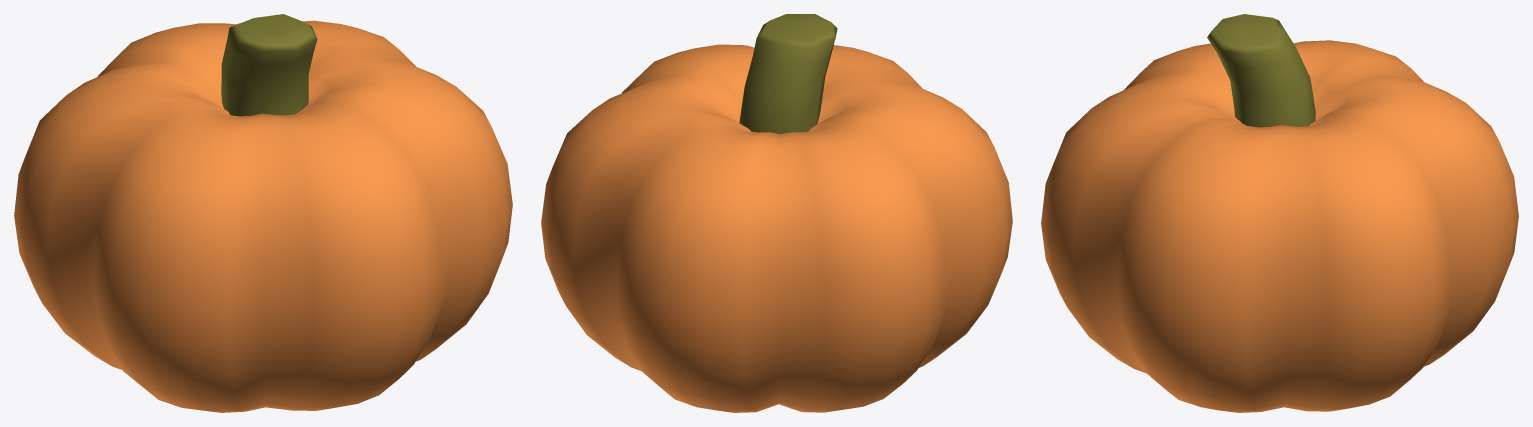
The model's file is Pumpkin_1.glb.
3 renders of one model, left to right at view 1: azimuth 30°, elevation 25°; view 2: azimuth 150°, elevation 25°; view 3: azimuth 270°, elevation 25°, orthographic. The views are drawn at different scales.
Parts seen in each view (by area): view 1: Pumpkin_1; view 2: Pumpkin_1; view 3: Pumpkin_1.
Boxes of the visible parts, x1=… form: Pumpkin_1: x1=14, y1=14, x2=512, y2=412; Pumpkin_1: x1=541, y1=14, x2=1012, y2=412; Pumpkin_1: x1=1041, y1=14, x2=1518, y2=412.
Size of the model in its own units: 0.2773 by 0.2323 by 0.2977.
Materials: 1 (1 with a texture image).
